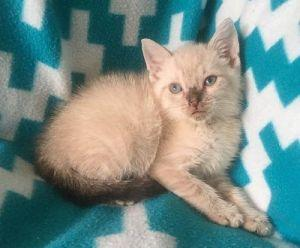siamese: (137, 17, 247, 130)
